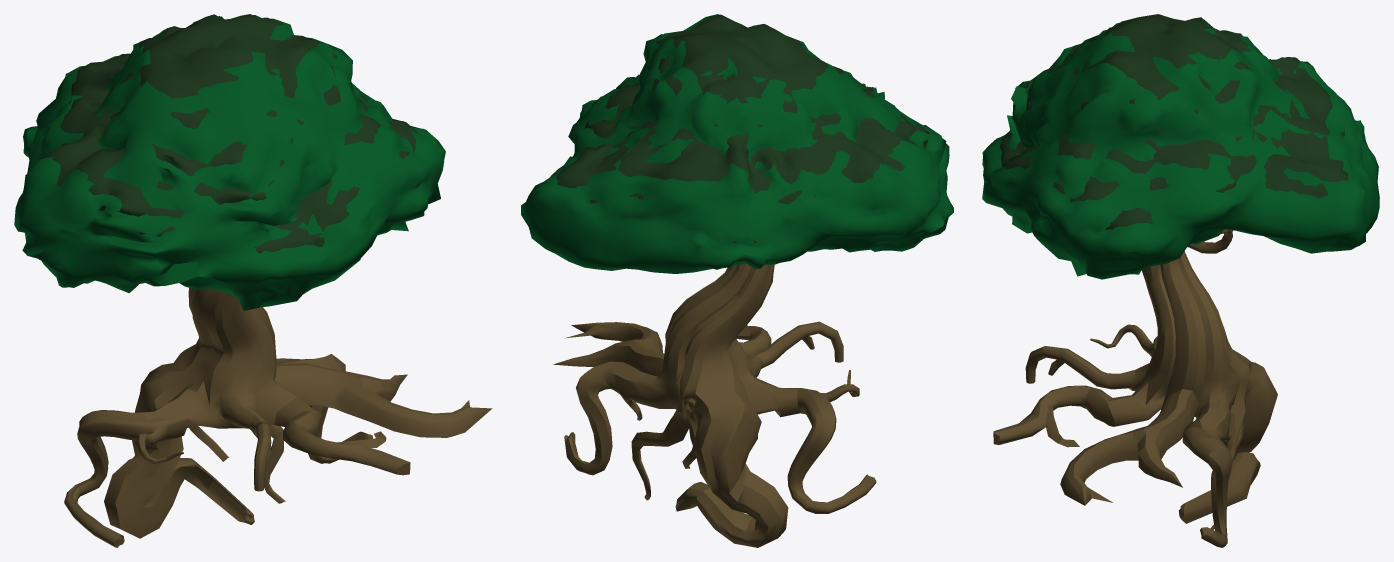
The model's file is megaTreeTest3.fbx.
3 renders of one model, left to right at view 1: azimuth 30°, elevation 25°; view 2: azimuth 150°, elevation 25°; view 3: azimuth 270°, elevation 25°, orthographic. The views are drawn at different scales.
Visible parts, largest first — view 1: polySurface4; view 2: polySurface4; view 3: polySurface4.
Boxes of the visible parts, <box> form: polySurface4: <box>14,14,492,547</box>; polySurface4: <box>521,14,953,547</box>; polySurface4: <box>982,14,1379,547</box>.
Bounding box in the file's own units: 499 × 563 × 421.
